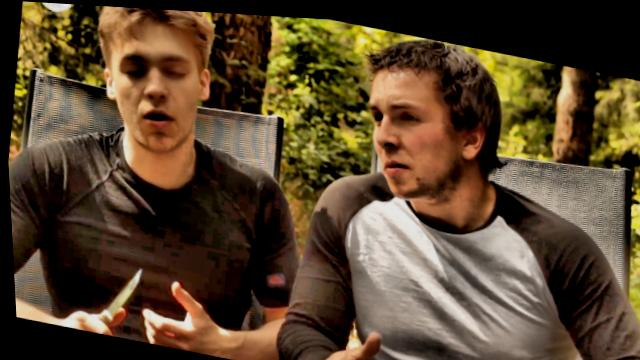knife: (65, 250, 146, 340)
